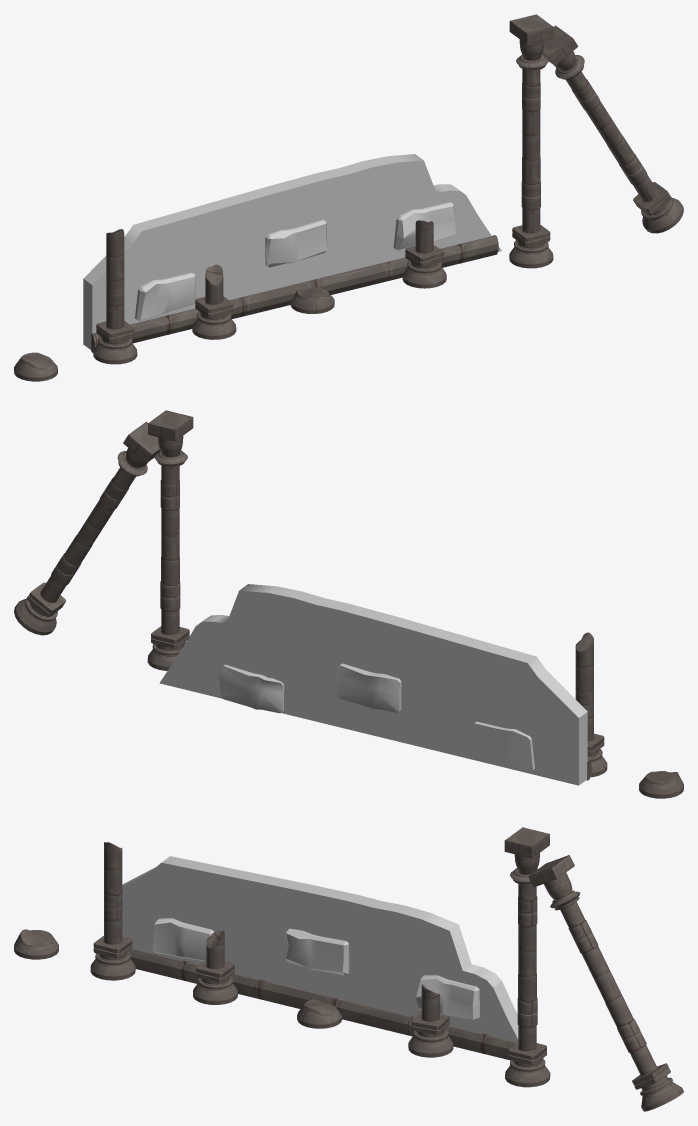
File: ArchitectureSet6.fbx
3 views of the same model, one above another, from view 1: azimuth 30°, elevation 25°; view 2: azimuth 150°, elevation 25°; view 3: azimuth 330°, elevation 25° (orthographic). The views are drawn at different scales.
Visible parts, largest first — view 1: pasted__pasted__polySurface305, polySurface150, polySurface151, pasted__pasted__pCube139, pasted__pasted__polySurface306, pasted__pasted__polySurface309, pCube343, pasted__pasted__polySurface310, pCube342, pCube339, pasted__pasted__pCube140, pasted__pasted__polySurface307 (+3 smaller); view 2: pasted__pasted__polySurface305, polySurface150, polySurface151, pCube341, pCube338, pCube340, pasted__pasted__polySurface306, pasted__pasted__polySurface307, pasted__pasted__polySurface308, polySurface152; view 3: pasted__pasted__polySurface305, polySurface151, polySurface150, pasted__pasted__pCube139, pasted__pasted__polySurface306, pCube343, pasted__pasted__polySurface309, pasted__pasted__polySurface310, pCube342, pCube339, pasted__pasted__polySurface307, pasted__pasted__pCube140 (+3 smaller).
Boxes of the visible parts, left/top/right/bottom form: pasted__pasted__polySurface305: left=83, top=154, right=501, bottom=349; polySurface150: left=509, top=56, right=553, bottom=268; polySurface151: left=566, top=72, right=683, bottom=233; pasted__pasted__pCube139: left=91, top=261, right=392, bottom=352; pasted__pasted__polySurface306: left=93, top=229, right=137, bottom=364; pasted__pasted__polySurface309: left=192, top=264, right=236, bottom=339; pCube343: left=265, top=219, right=327, bottom=267; pasted__pasted__polySurface310: left=402, top=220, right=446, bottom=288; pCube342: left=135, top=272, right=195, bottom=320; pCube339: left=393, top=202, right=455, bottom=250; pasted__pasted__pCube140: left=385, top=235, right=498, bottom=281; pasted__pasted__polySurface307: left=509, top=14, right=553, bottom=60; pasted__pasted__polySurface305: left=159, top=584, right=587, bottom=785; polySurface150: left=147, top=454, right=189, bottom=670; polySurface151: left=14, top=467, right=135, bottom=635; pCube341: left=336, top=663, right=401, bottom=712; pCube338: left=471, top=721, right=534, bottom=771; pCube340: left=218, top=664, right=284, bottom=713; pasted__pasted__polySurface306: left=575, top=632, right=607, bottom=777; pasted__pasted__polySurface307: left=148, top=410, right=193, bottom=457; pasted__pasted__polySurface308: left=123, top=421, right=160, bottom=468; polySurface152: left=639, top=771, right=683, bottom=798; pasted__pasted__polySurface305: left=122, top=856, right=518, bottom=1041; polySurface151: left=560, top=902, right=683, bottom=1111; polySurface150: left=505, top=872, right=550, bottom=1087; pasted__pasted__pCube139: left=128, top=948, right=413, bottom=1035; pasted__pasted__polySurface306: left=90, top=842, right=135, bottom=980; pCube343: left=285, top=928, right=349, bottom=975; pasted__pasted__polySurface309: left=193, top=930, right=237, bottom=1004; pasted__pasted__polySurface310: left=408, top=984, right=453, bottom=1057; pCube342: left=152, top=918, right=213, bottom=961; pCube339: left=416, top=975, right=480, bottom=1019; pasted__pasted__polySurface307: left=504, top=827, right=549, bottom=874; pasted__pasted__pCube140: left=406, top=1017, right=517, bottom=1060.
Size of the model in its own units: 956 by 329 by 103.
